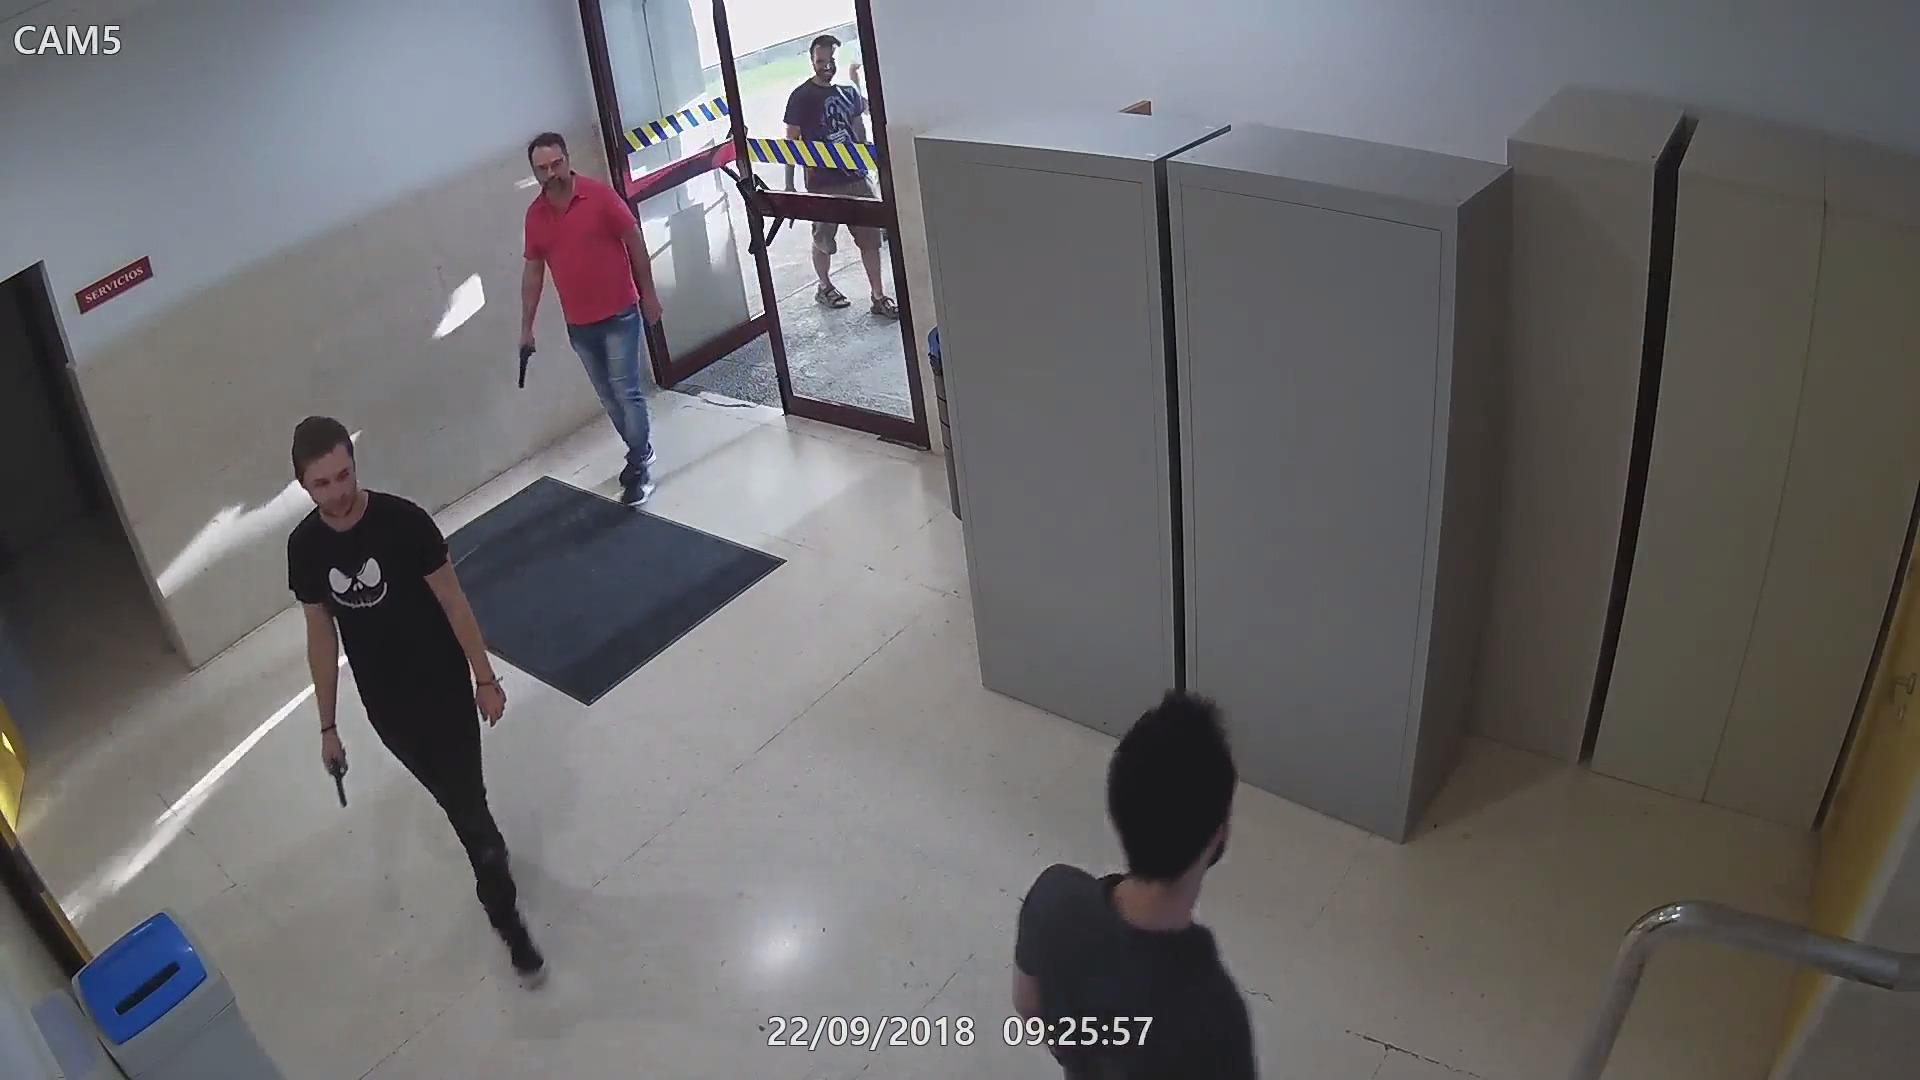Handgun: (315, 741, 353, 820), (506, 330, 541, 393)
